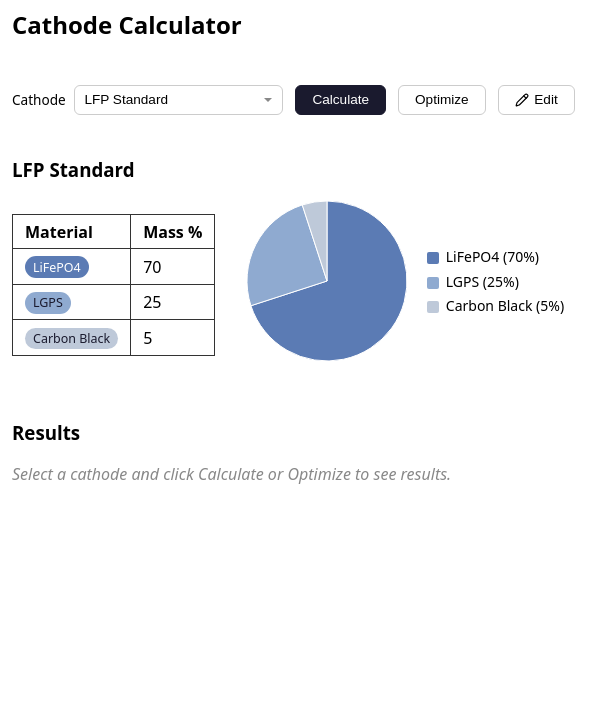
OptimizerView › gives each active material its own capacity and dashes the rest
Step 1. Select "Multi-Component Research" in the dropdown labelled "Cathode" → (179, 100), box [74,85,283,115]
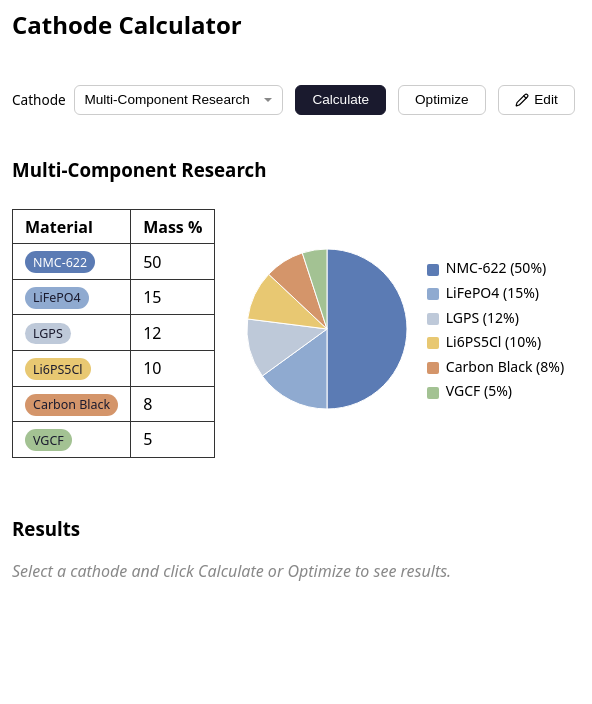
Step 2. Click the button "Calculate" → (341, 100), box [295,85,386,115]
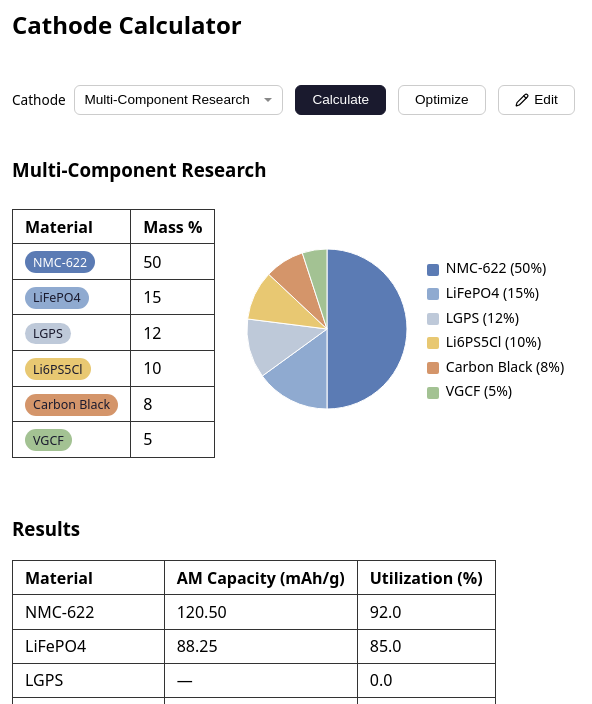
Check: the text "120.50" is shown, box [164,595,357,629]
Check: the text "88.25" is shown, box [164,629,357,663]
Check: the text "—" is shown 4 times
